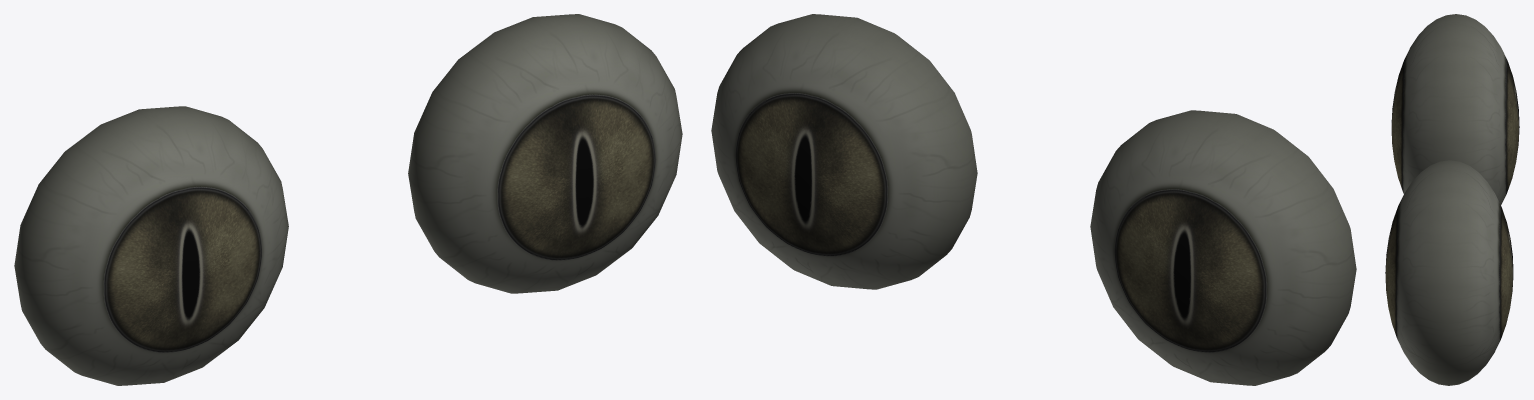
The model's file is Eyes.fbx.
3 views of the same model, side by side, from view 1: azimuth 30°, elevation 25°; view 2: azimuth 150°, elevation 25°; view 3: azimuth 270°, elevation 25° (orthographic). The views are drawn at different scales.
Visible parts, largest first — view 1: pSphere2, pSphere1; view 2: pSphere2, pSphere1; view 3: pSphere2, pSphere1.
Part boxes in pixels (box(x1,y1,x2,y2)): pSphere2: box(408, 14, 682, 293); pSphere1: box(14, 106, 288, 385); pSphere2: box(711, 14, 977, 289); pSphere1: box(1090, 110, 1356, 385); pSphere2: box(1385, 160, 1513, 385); pSphere1: box(1391, 14, 1519, 204).
Size of the model in its own units: 1.15 by 0.4528 by 0.2674.
